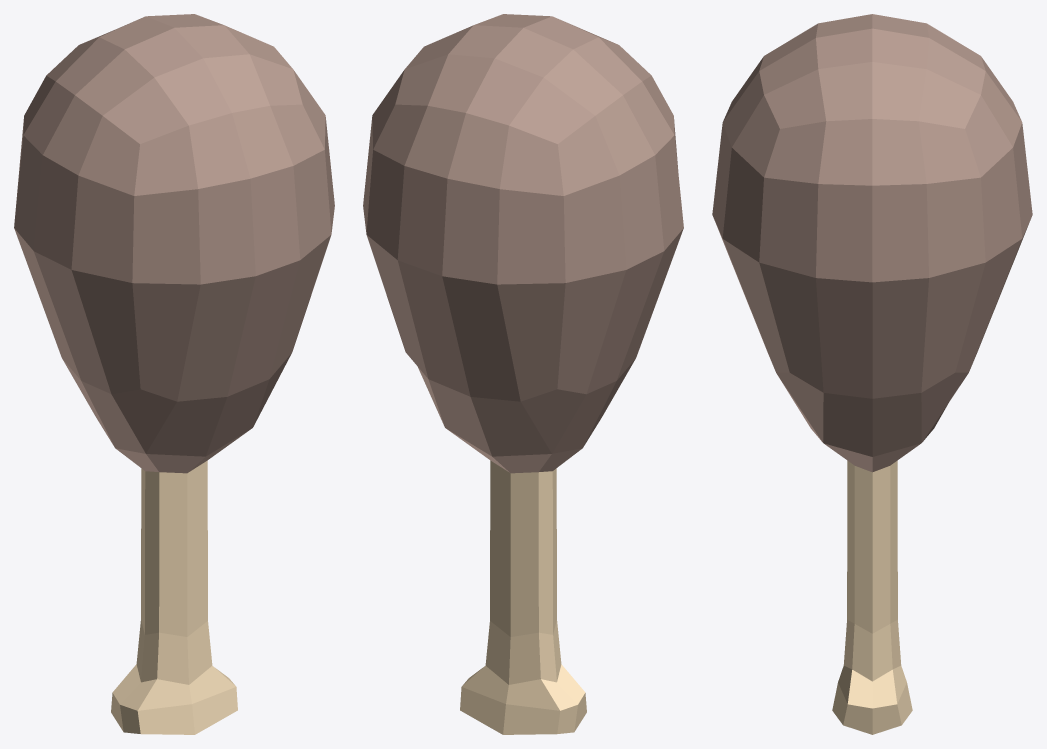
The model's file is Chicken Wing.fbx.
3 renders of one model, left to right at view 1: azimuth 30°, elevation 25°; view 2: azimuth 150°, elevation 25°; view 3: azimuth 270°, elevation 25°, orthographic.
Visible parts, largest first — view 1: Chicken_Drumstick_01; view 2: Chicken_Drumstick_01; view 3: Chicken_Drumstick_01.
Boxes of the visible parts, left/top/right/bottom form: Chicken_Drumstick_01: left=14, top=14, right=334, bottom=734; Chicken_Drumstick_01: left=363, top=14, right=683, bottom=734; Chicken_Drumstick_01: left=712, top=14, right=1032, bottom=734.
Size of the model in its own units: 450 by 1072 by 450.
